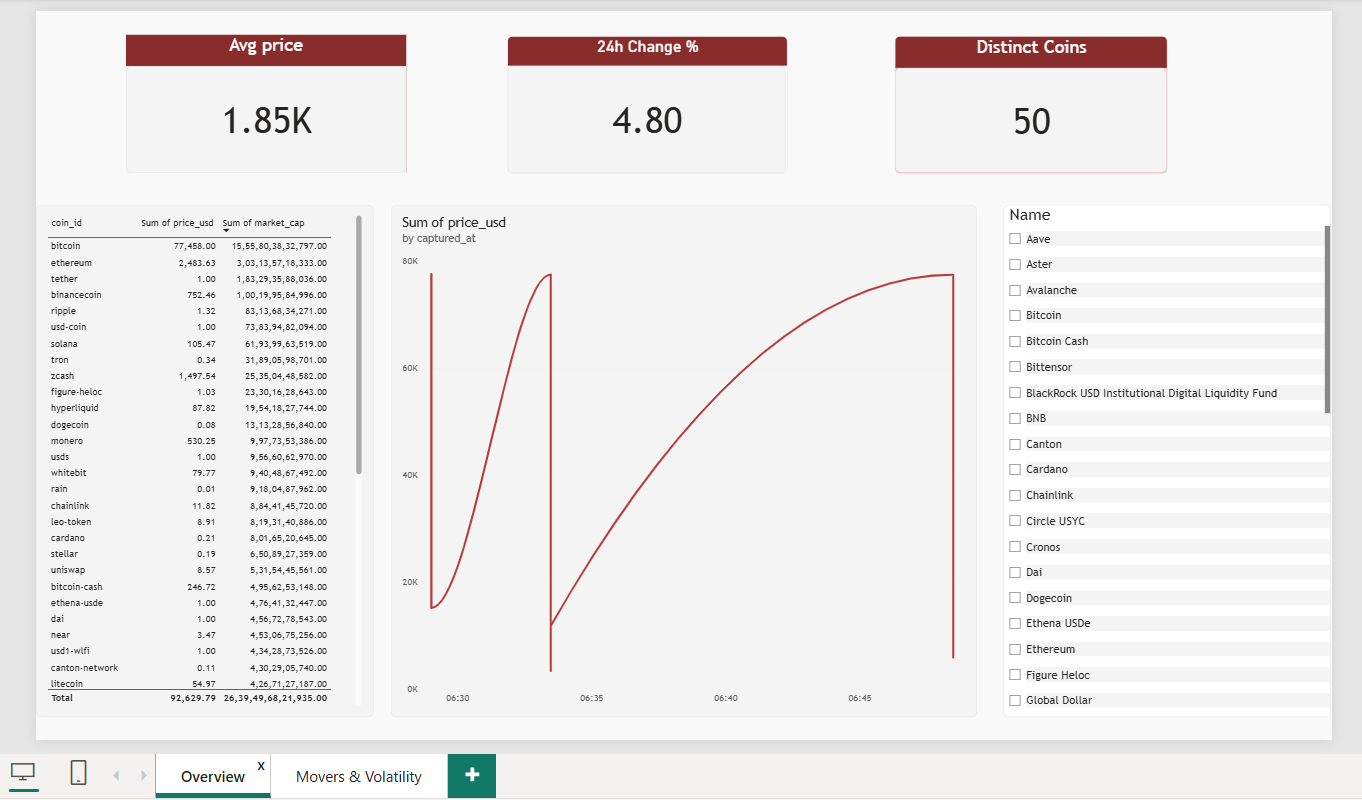

What the dashboard file says about the page in this screenshot:
{"tool":"powerbi","page":{"name":"Overview","canvas":[1920,1080],"ordinal":0},"visuals":[{"type":"cardVisual","title":"Avg price","fields":{"Data":["price_snapshots.Avg Price"]},"box":[132.5,35,415,205],"z":0},{"type":"cardVisual","title":"24h Change %","fields":{"Data":["price_snapshots.24h Change %"]},"box":[697.9,36.2,414.9,204.3],"z":1000},{"type":"cardVisual","title":"Distinct Coins","fields":{"Data":["price_snapshots.Distinct Coins"]},"box":[1272.3,36.2,404.3,204.3],"z":2000},{"type":"tableEx","fields":{"Values":["latest_prices.coin_id","Sum(latest_prices.price_usd)","Sum(latest_prices.market_cap)"]},"box":[0,287.2,500,759.6],"z":3000},{"type":"lineChart","fields":{"Y":["Sum(price_snapshots.price_usd)"],"Category":["price_snapshots.captured_at"]},"box":[525.5,287.2,868.1,759.6],"z":4000},{"type":"slicer","fields":{"Values":["coins.name"]},"box":[1434,287.2,485.1,759.6],"z":5000}]}

Visuals, with their boxes on the page's 1920x1080 design canvas (x1, y1, x2, y2). These are canvas units, not pixel positions in the 1362x800 screenshot, which may show the page scaled, cropped or inside an application window:
"Avg price" cardVisual: 132,35,548,240
"24h Change %" cardVisual: 698,36,1113,240
"Distinct Coins" cardVisual: 1272,36,1677,240
tableEx - latest_prices.coin_id x Sum(latest_prices.price_usd): 0,287,500,1047
lineChart - Sum(price_snapshots.price_usd) x price_snapshots.captured_at: 526,287,1394,1047
slicer - coins.name: 1434,287,1919,1047
